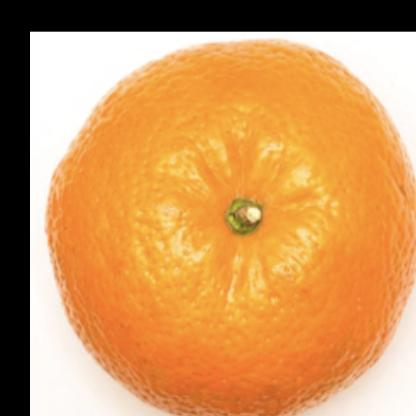fresh: (47, 42, 416, 416)
